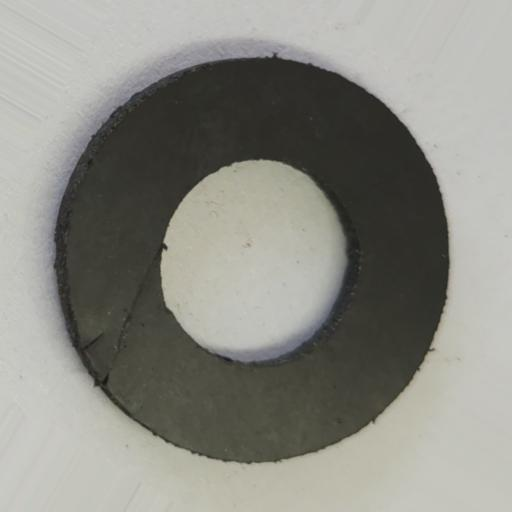defect: (82, 244, 168, 392)
